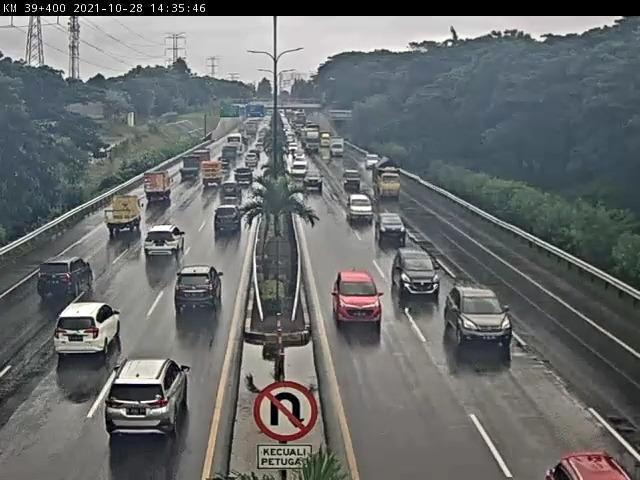bus: (197, 161, 225, 194)
car: (104, 357, 212, 446), (51, 298, 139, 370), (441, 279, 514, 360), (160, 273, 224, 337), (37, 258, 98, 317), (537, 442, 631, 480), (335, 270, 387, 330), (391, 246, 440, 305), (139, 222, 188, 269), (209, 200, 247, 240), (343, 188, 377, 230), (377, 212, 410, 251), (219, 182, 248, 209), (303, 174, 325, 200), (232, 165, 256, 187), (341, 171, 366, 189)
truck: (101, 194, 150, 238), (139, 167, 179, 215), (367, 156, 404, 199), (171, 149, 205, 185), (328, 136, 350, 160)
